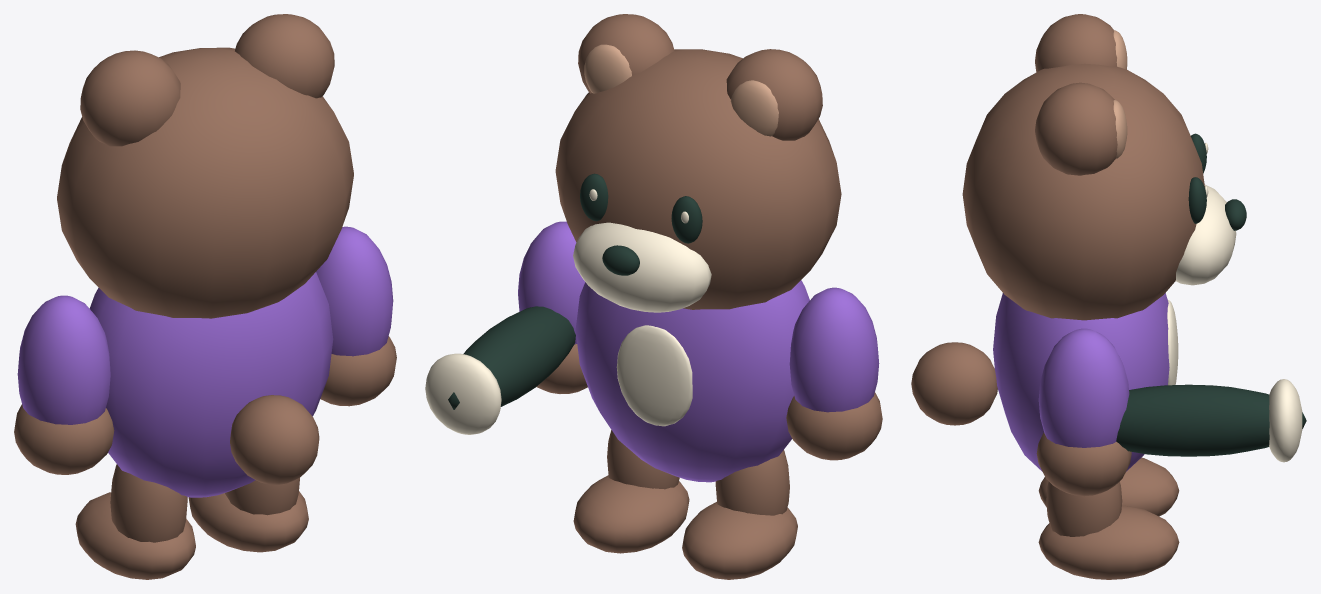
The model's file is bear.glb.
The picture shows the model from 3 angles, left to right: view 1: azimuth 30°, elevation 25°; view 2: azimuth 150°, elevation 25°; view 3: azimuth 270°, elevation 25°; orthographic projection. The views are drawn at different scales.
Parts seen in each view (by area): view 1: head, uniform, paw (×4), sleeve (×2), ear (×2), tail, leg-fur (×2); view 2: head, uniform, paw (×4), sleeve (×2), ear (×2), muzzle, toy-blaster, belly-badge, leg-fur (×2), blaster-tip, inner-ear (×2), eye (×2) (+1 smaller); view 3: head, paw (×3), uniform, toy-blaster, ear (×2), sleeve, tail, muzzle, leg-fur, blaster-tip, belly-badge, eye (+2 smaller).
Boxes of the visible parts, x1,y1,x2,y2 form: head: [57, 47, 353, 318]; uniform: [89, 272, 333, 497]; paw (×4): [14, 336, 396, 579]; sleeve (×2): [17, 226, 393, 424]; ear (×2): [80, 14, 334, 146]; tail: [230, 395, 319, 484]; leg-fur (×2): [110, 464, 299, 542]; head: [555, 49, 841, 309]; uniform: [575, 280, 809, 482]; paw (×4): [536, 344, 882, 579]; sleeve (×2): [518, 221, 879, 412]; ear (×2): [578, 14, 822, 140]; muzzle: [573, 222, 711, 312]; toy-blaster: [448, 306, 575, 409]; belly-badge: [616, 325, 692, 426]; leg-fur (×2): [607, 430, 789, 515]; blaster-tip: [425, 353, 501, 434]; inner-ear (×2): [584, 44, 778, 136]; eye (×2): [580, 173, 702, 243]; head: [962, 63, 1204, 320]; paw (×3): [1036, 432, 1179, 579]; uniform: [993, 293, 1169, 471]; toy-blaster: [1116, 384, 1306, 456]; ear (×2): [1035, 14, 1117, 175]; sleeve: [1038, 328, 1129, 447]; tail: [911, 342, 997, 425]; muzzle: [1175, 184, 1236, 285]; leg-fur: [1046, 481, 1122, 536]; blaster-tip: [1269, 379, 1302, 462]; belly-badge: [1167, 300, 1178, 385]; eye: [1188, 177, 1206, 223].
Size of the model in its own units: 2.1 by 2.87 by 2.08.
